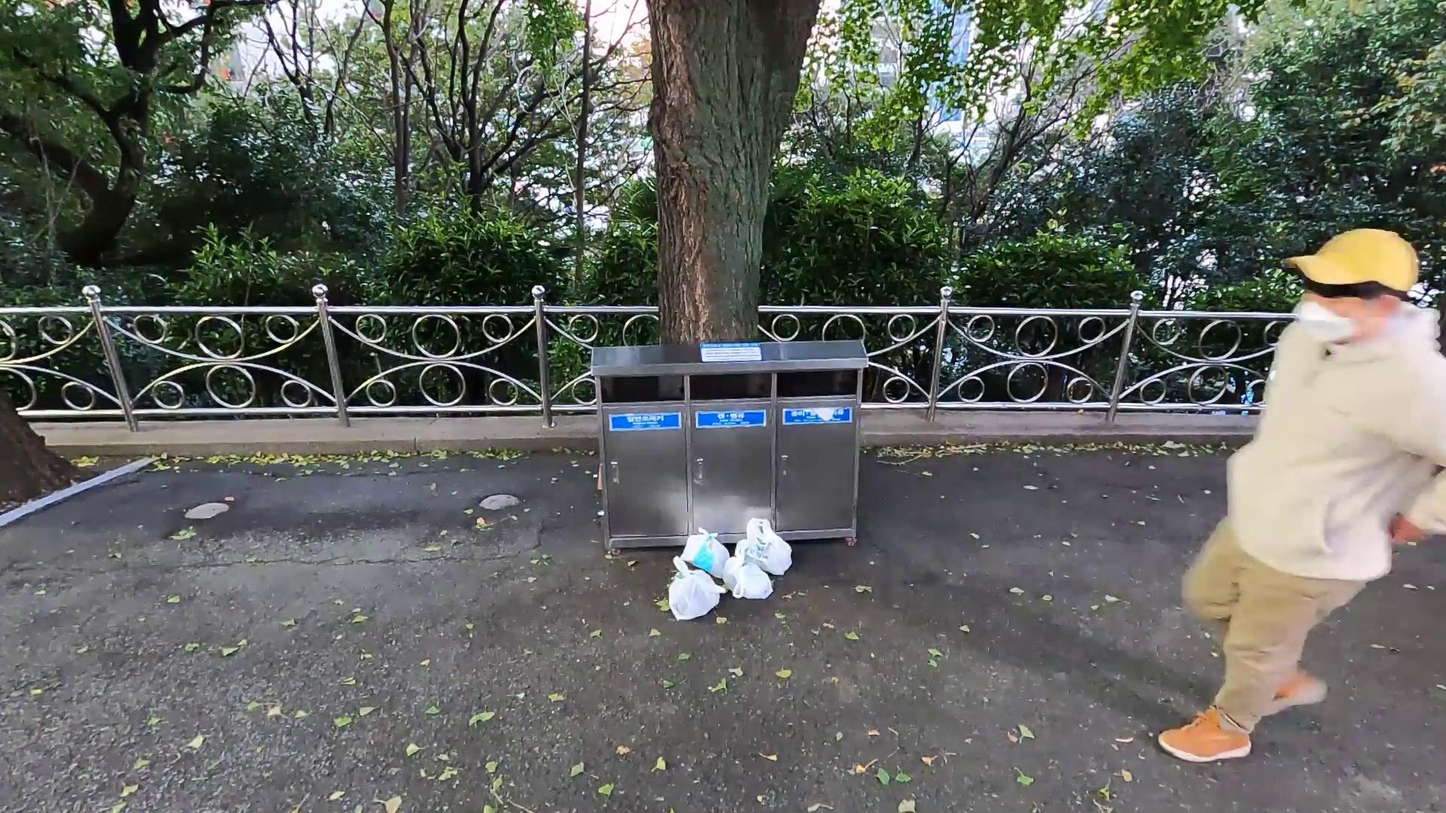person: (1153, 223, 1446, 771)
trash: (661, 558, 738, 626), (730, 515, 800, 575), (727, 544, 781, 604), (681, 526, 734, 583)
